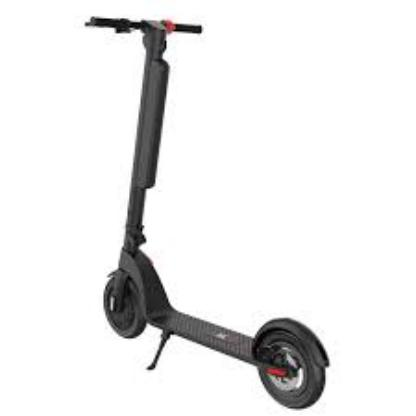bike: (100, 9, 331, 412)
